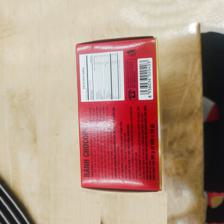Chocopie: (75, 35, 164, 195)
